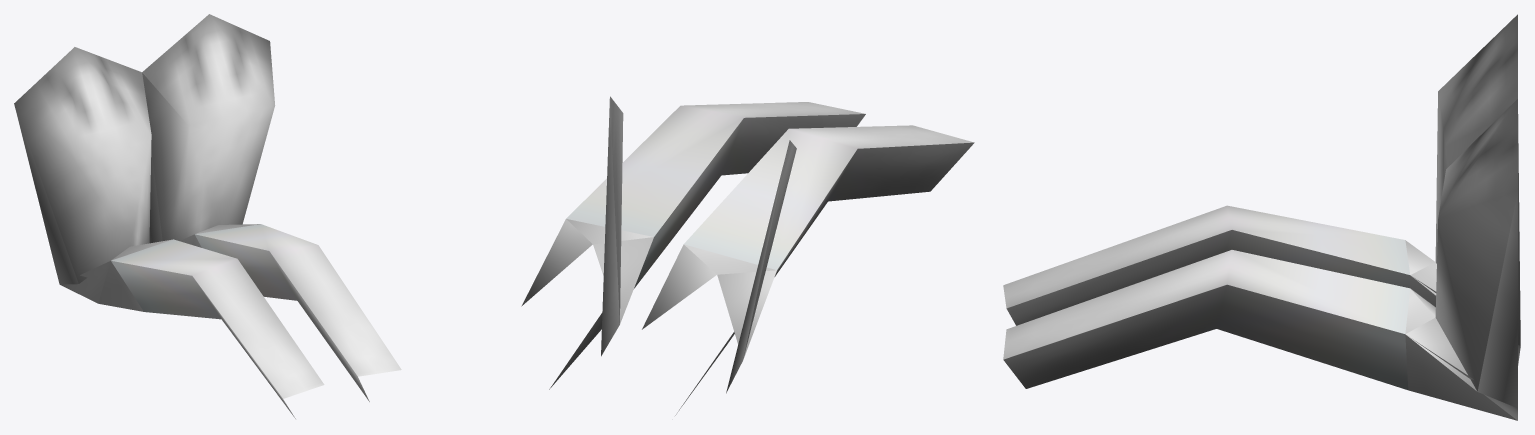
File: legs_m_250.glb
3 renders of one model, left to right at view 1: azimuth 30°, elevation 25°; view 2: azimuth 150°, elevation 25°; view 3: azimuth 270°, elevation 25°, orthographic. The views are drawn at different scales.
Parts seen in each view (by area): view 1: feet, legs; view 2: legs, feet; view 3: legs, feet.
Boxes of the visible parts, <box> form: feet: <box>14,14,275,311</box>; legs: <box>111,224,401,418</box>; legs: <box>566,102,974,339</box>; feet: <box>521,96,796,415</box>; legs: <box>1003,205,1410,389</box>; feet: <box>1405,14,1520,420</box>.
Size of the model in its own units: 1.25 by 1.23 by 1.71.
2 materials, 2 textured.
